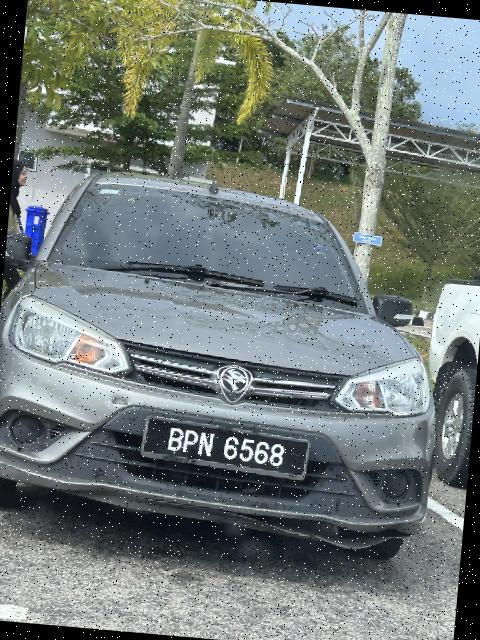BPN6568: (139, 416, 315, 477)
License_Plate: (139, 416, 315, 477)
car: (1, 156, 454, 585)
